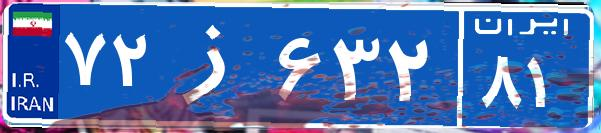1: (525, 38, 570, 115)
2: (385, 28, 445, 110), (110, 28, 158, 105)
3: (330, 28, 385, 110)
6: (273, 28, 330, 110)
7: (57, 26, 110, 107)
8: (475, 38, 525, 113)
ز: (158, 15, 273, 115)
